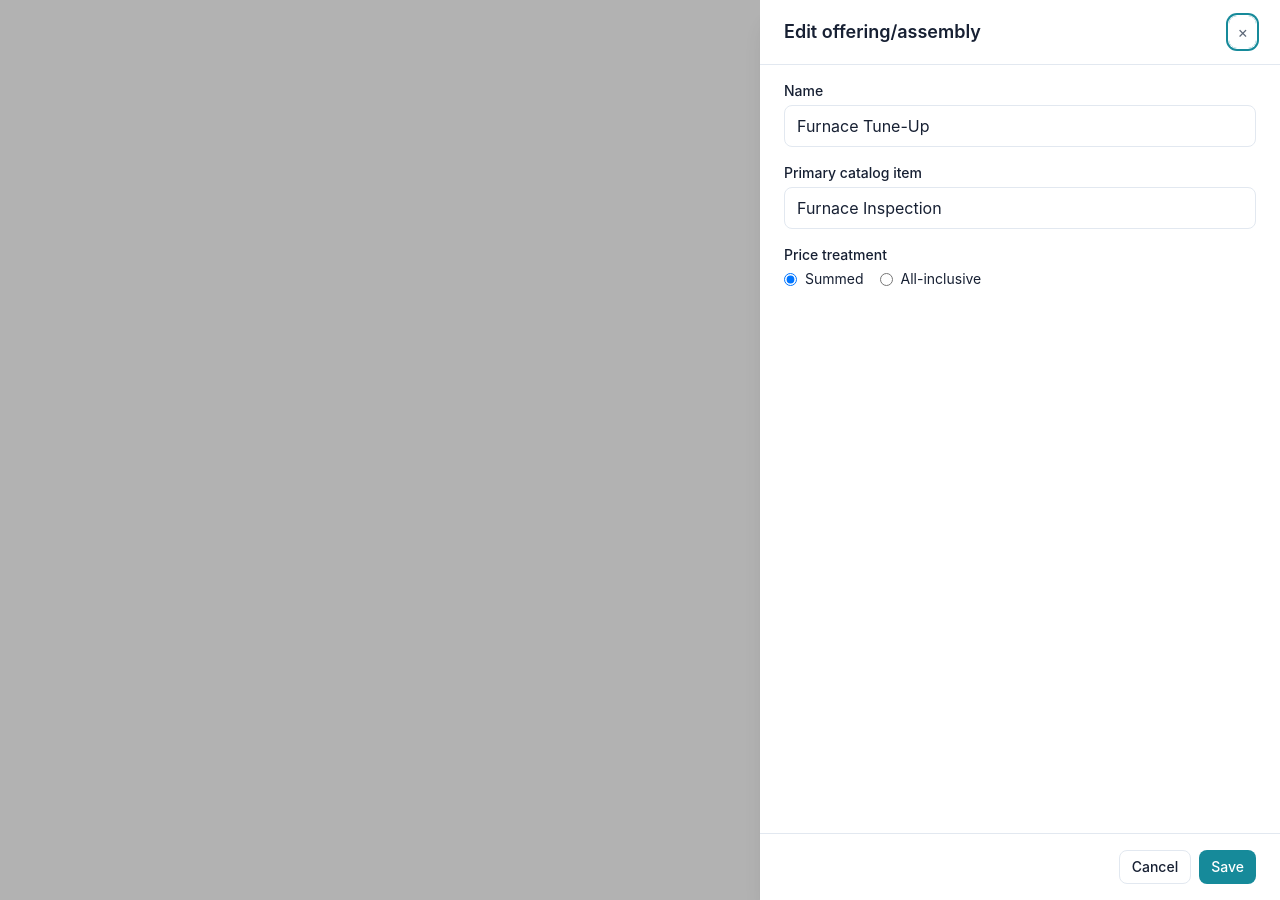
OfferingAssemblyHeaderEditDrawer › shows a server field error inline and does not report success
In the field labelled "Name": [1020, 126] box [784, 105, 1256, 147], type " Plus"
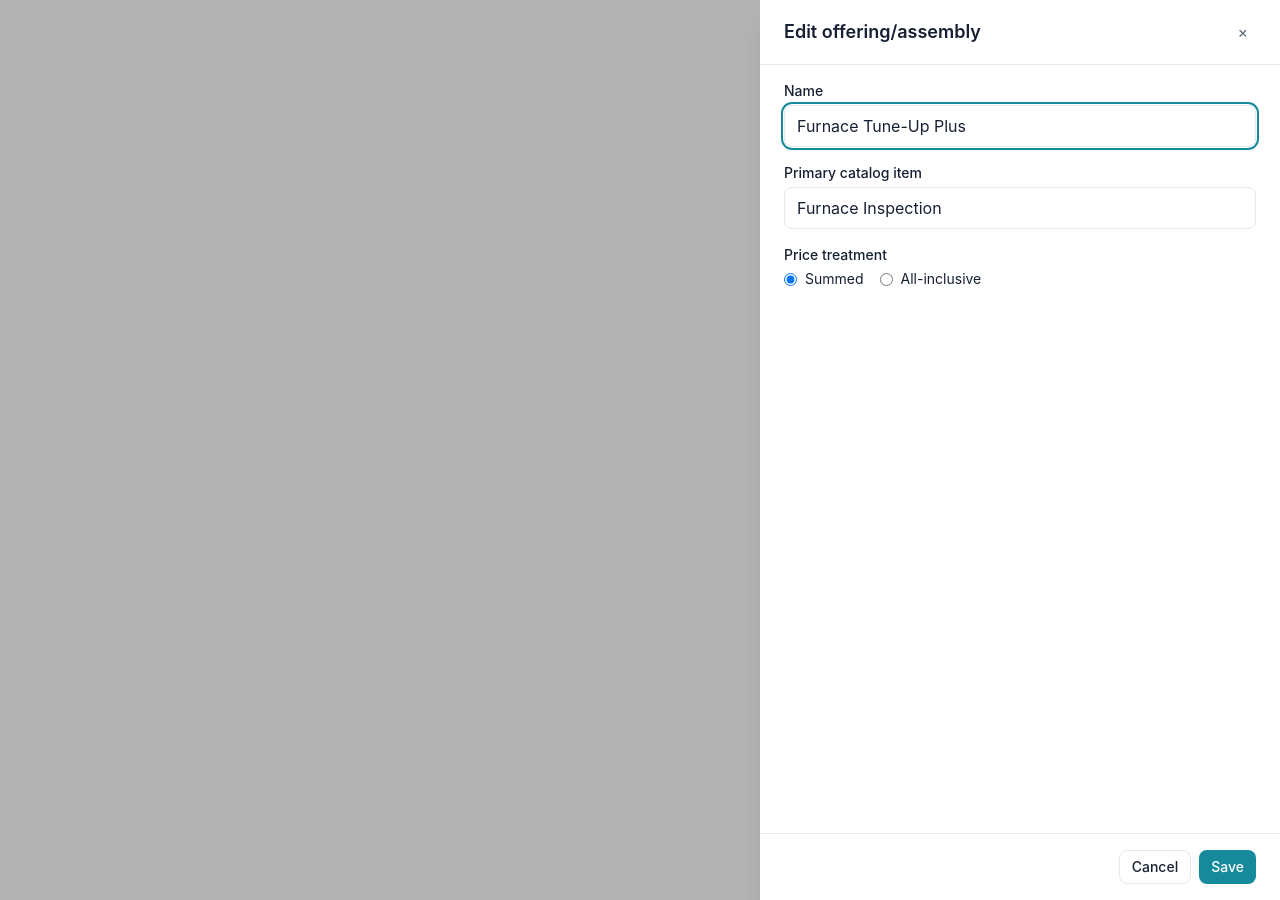
Click the button "Save": [1228, 867] box [1199, 850, 1256, 884]
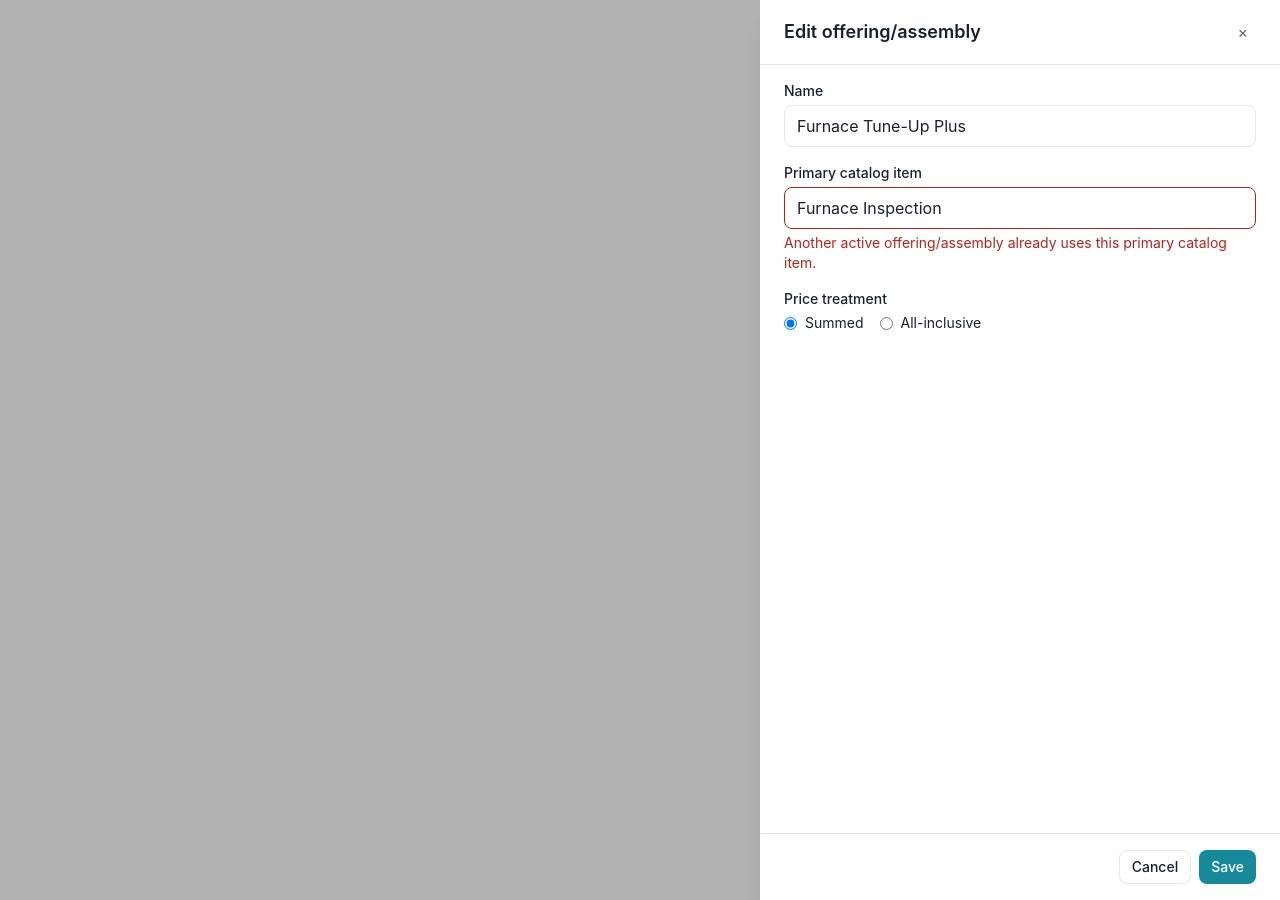
Expected: the text "Another active offering/assembly already uses this primary catalog item." is shown, [784, 233, 1256, 273]
